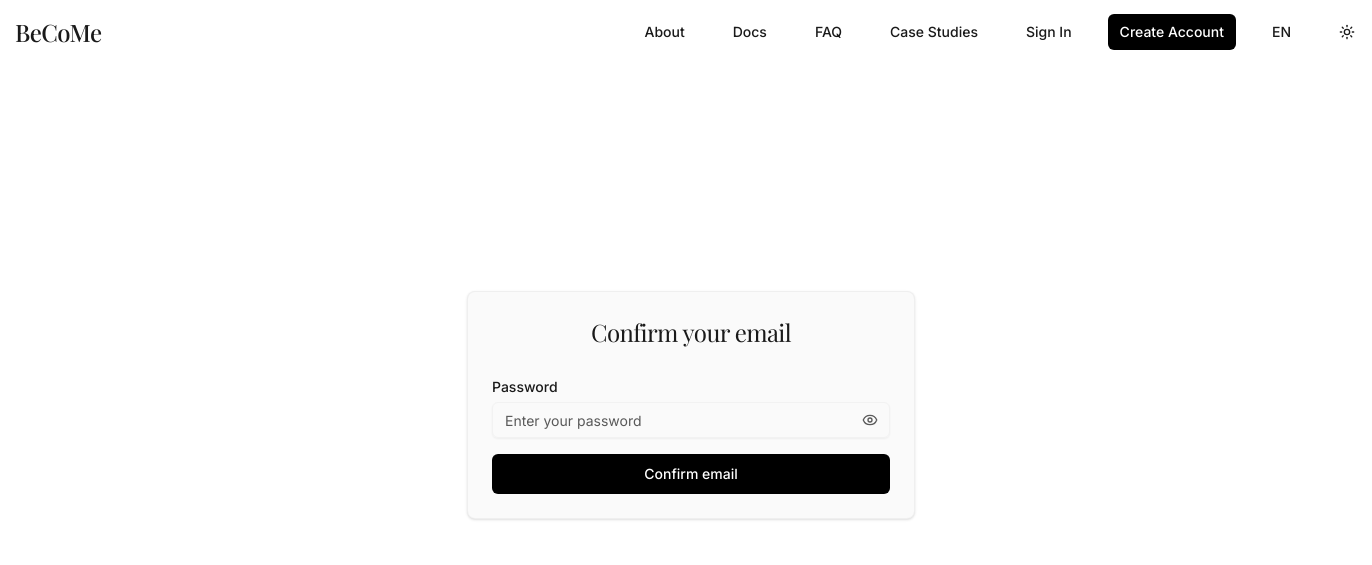
it: VerifyEmail › shows a distinct locked-out message on a 429, without navigating away
The image size is (1372, 565).
Type "CorrectHorse123!" into the password field with placeholder "Enter your password" at coordinates (691, 420), box top-left (492, 402), bottom-right (890, 438)
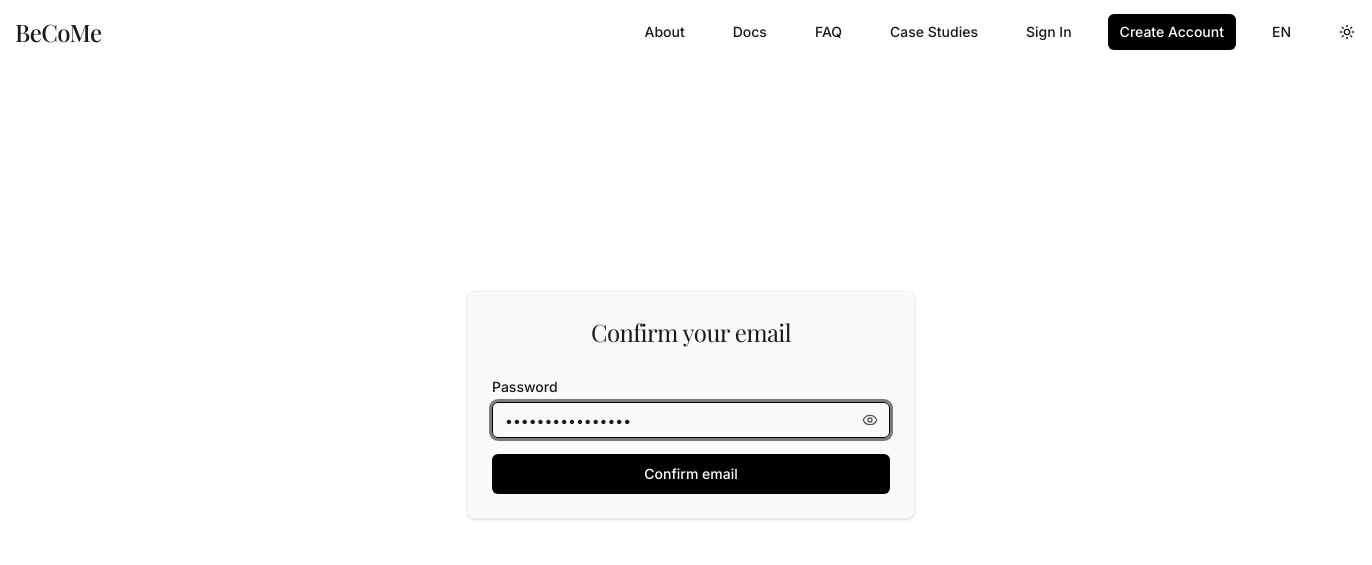
Click the button "Confirm email" at coordinates (691, 474), box top-left (492, 454), bottom-right (890, 494)
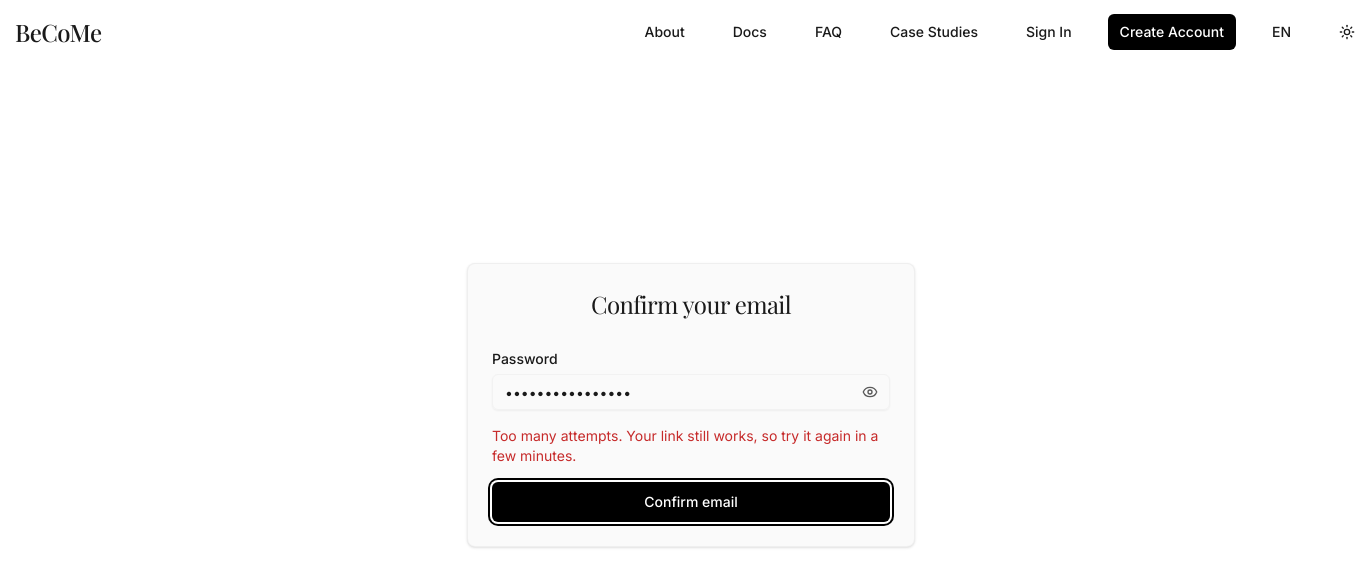
expect the message shows "Too many attempts": met, box top-left (492, 427), bottom-right (878, 464)
